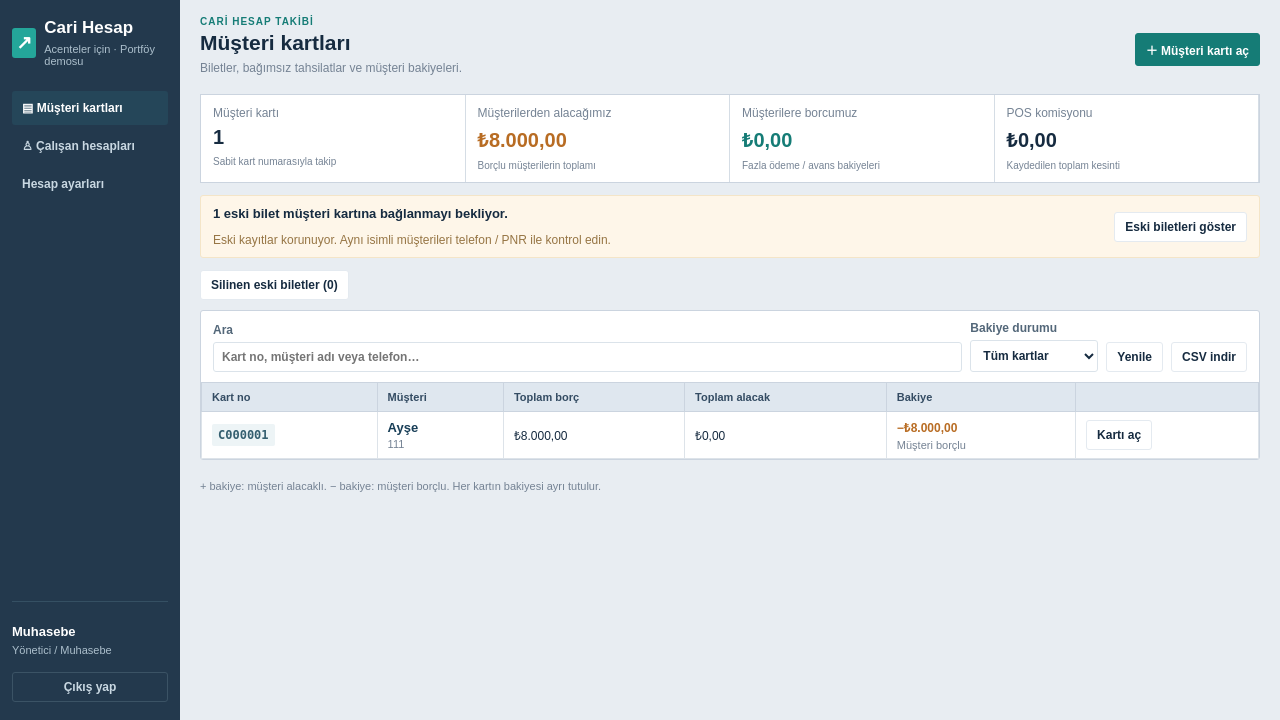
Test: admin removes only the listed legacy tickets and can open the recovery list
Click the button "Eski biletleri göster": (1181, 227) left=1114, top=212, right=1247, bottom=242
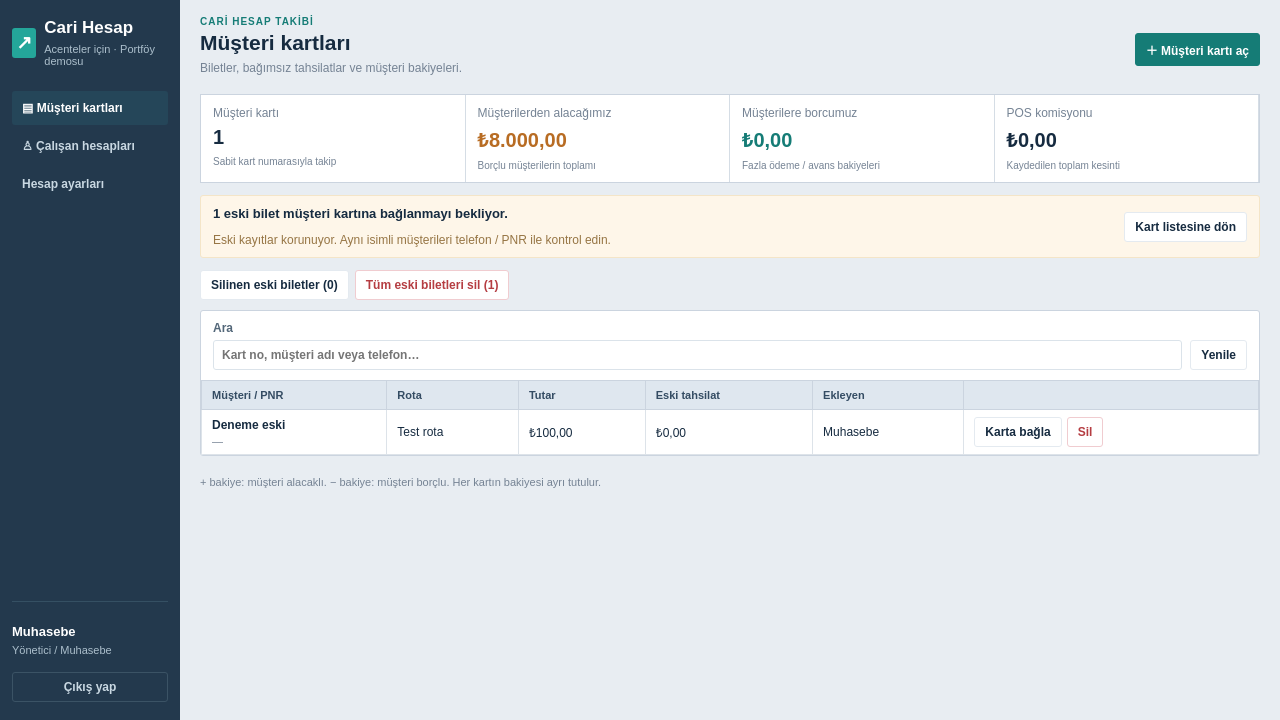
Click the button "Tüm eski biletleri sil (1)": (432, 285) left=355, top=270, right=509, bottom=300
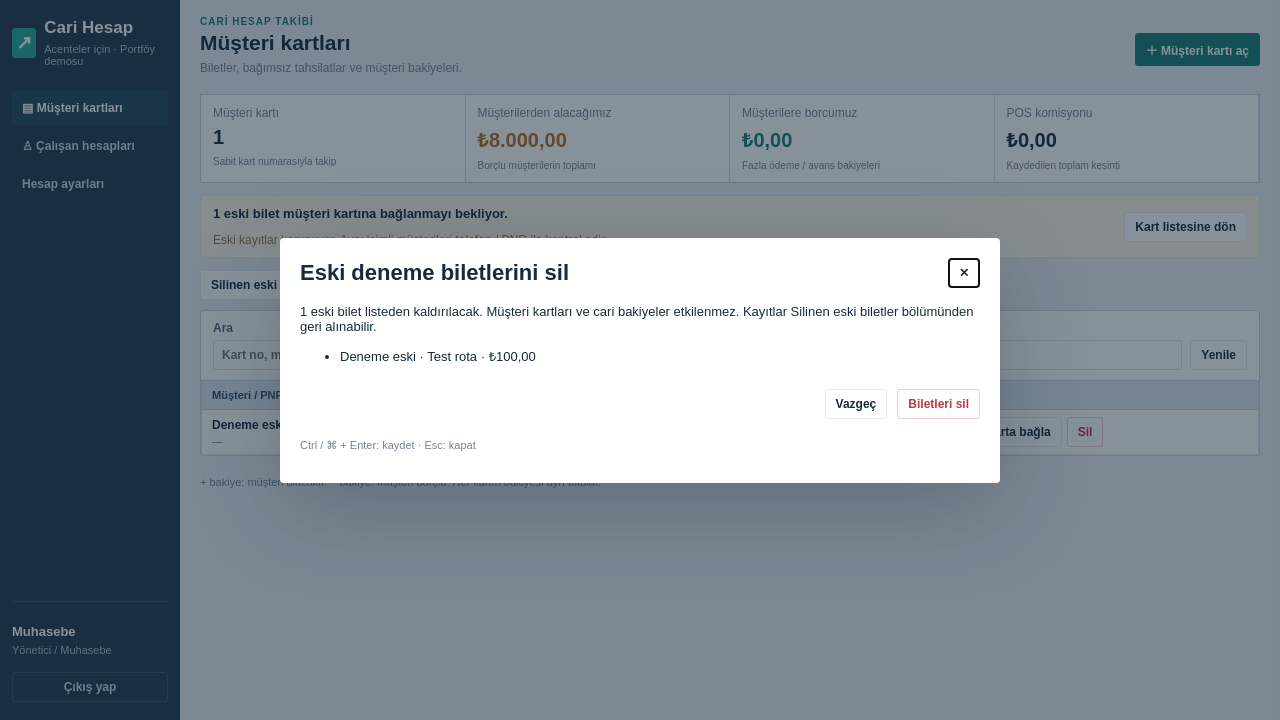
Now the dialog shows "Deneme eski", box left=340, top=348, right=416, bottom=364
Click the button "Biletleri sil": (939, 404) left=897, top=388, right=980, bottom=418
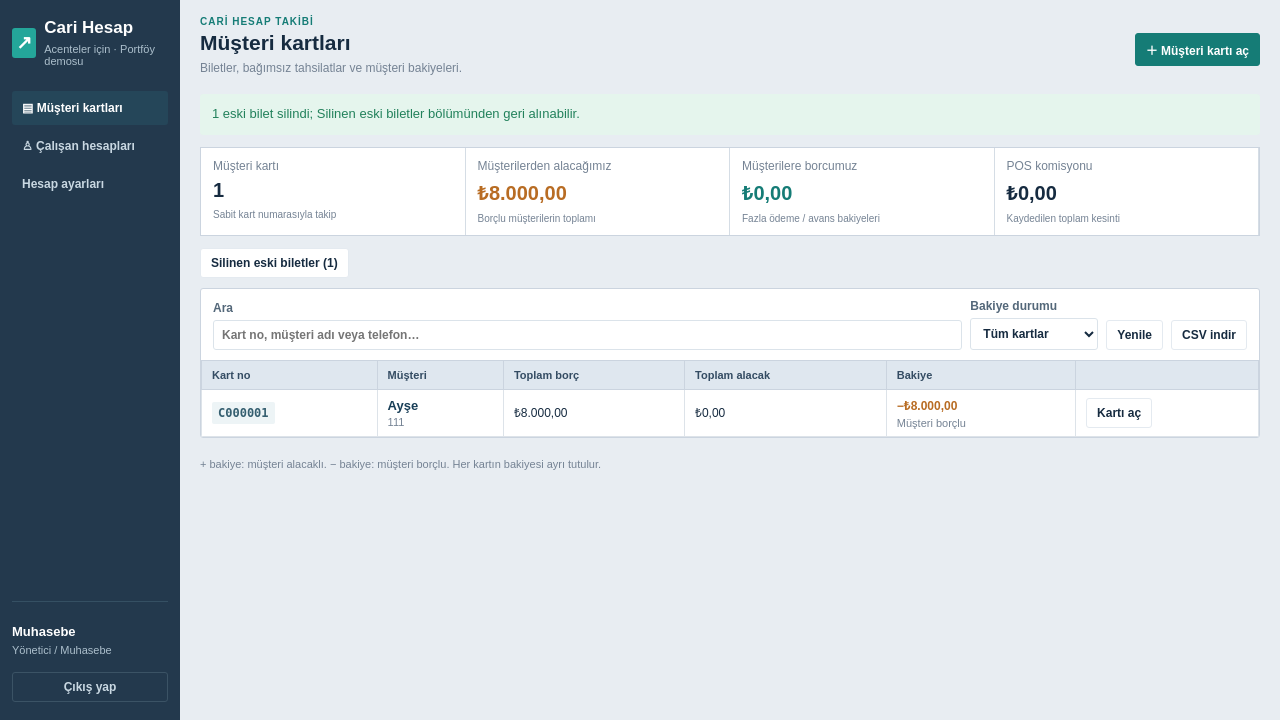
Click the button "Silinen eski biletler (1)": (274, 263) left=200, top=248, right=349, bottom=278
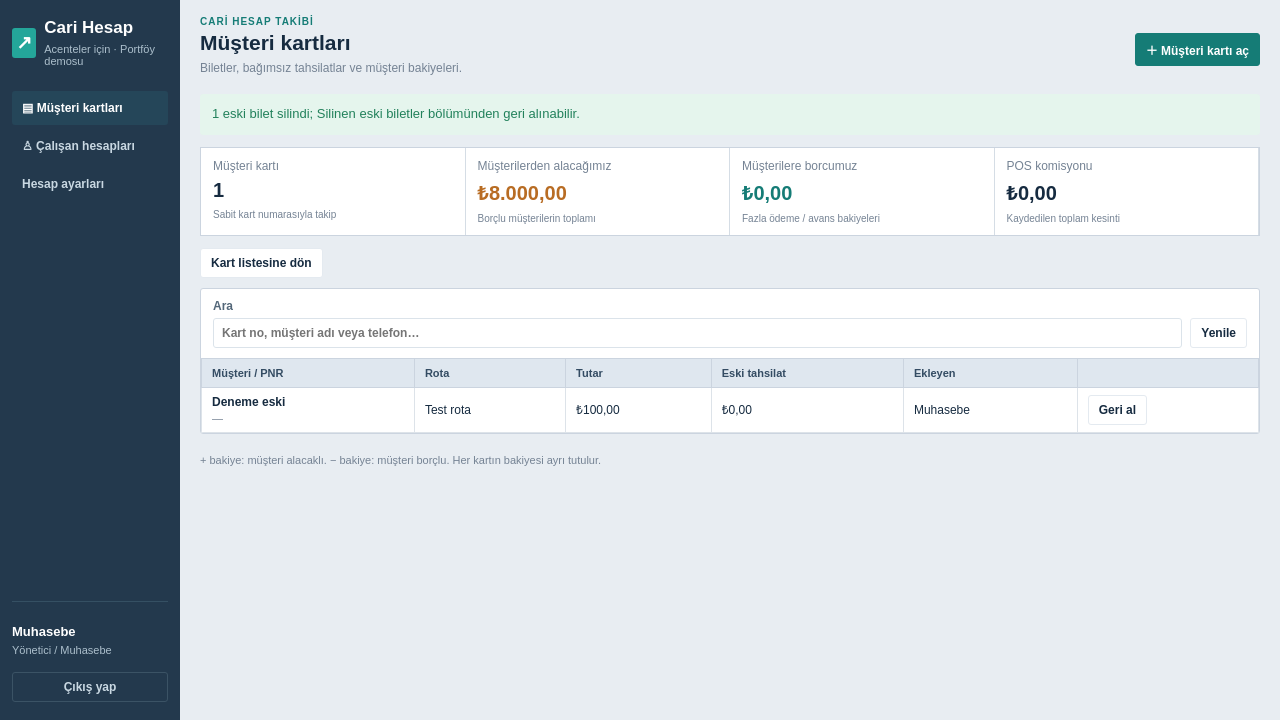
Now the button "Geri al" is shown, box left=1088, top=395, right=1147, bottom=425
